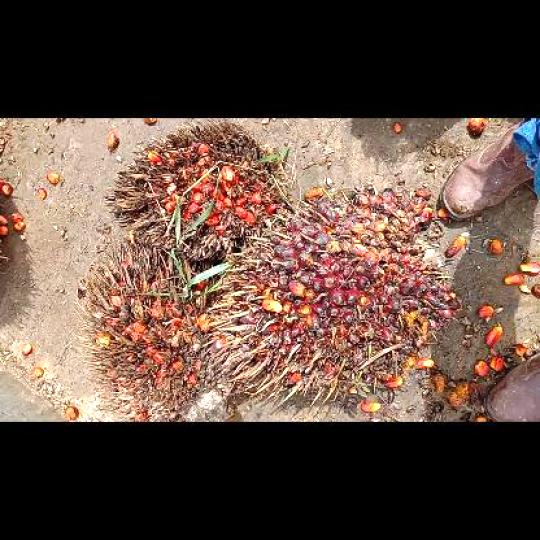masak: (203, 185, 462, 402)
terlalu masak: (72, 242, 237, 420), (101, 124, 286, 264)
